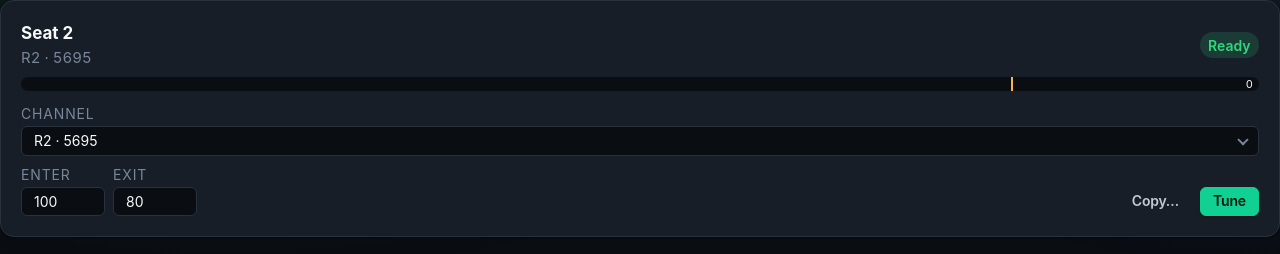
SeatCard enter/exit range (#88) › refuses an enter above 255 with the reason and shows RotorHazard's value again
Replace the text in the number field labelled "Enter" with "300" at (63, 201), box [21,187,105,216]
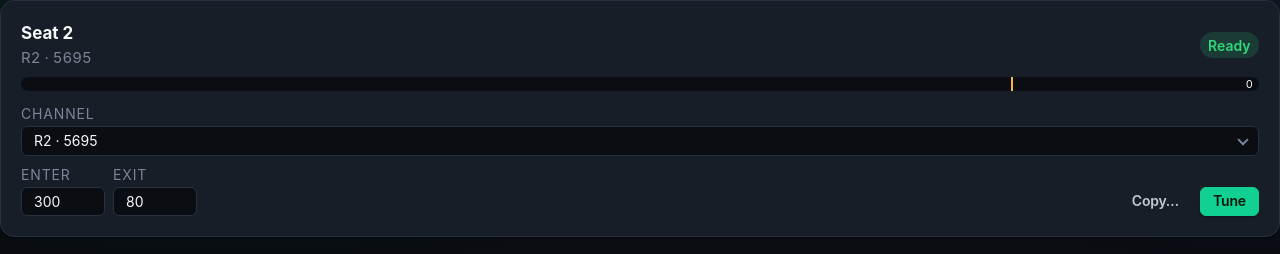
Leave the number field labelled "Enter", box [21,187,105,216]
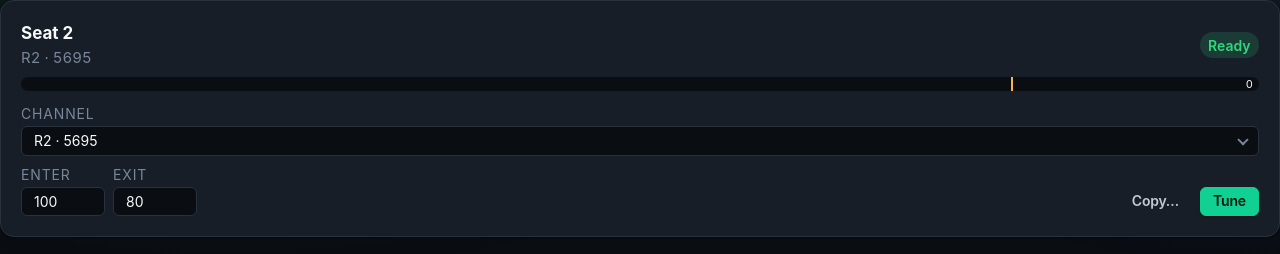
Expected: the number field labelled "Enter" holds "100", [21,187,105,216]
